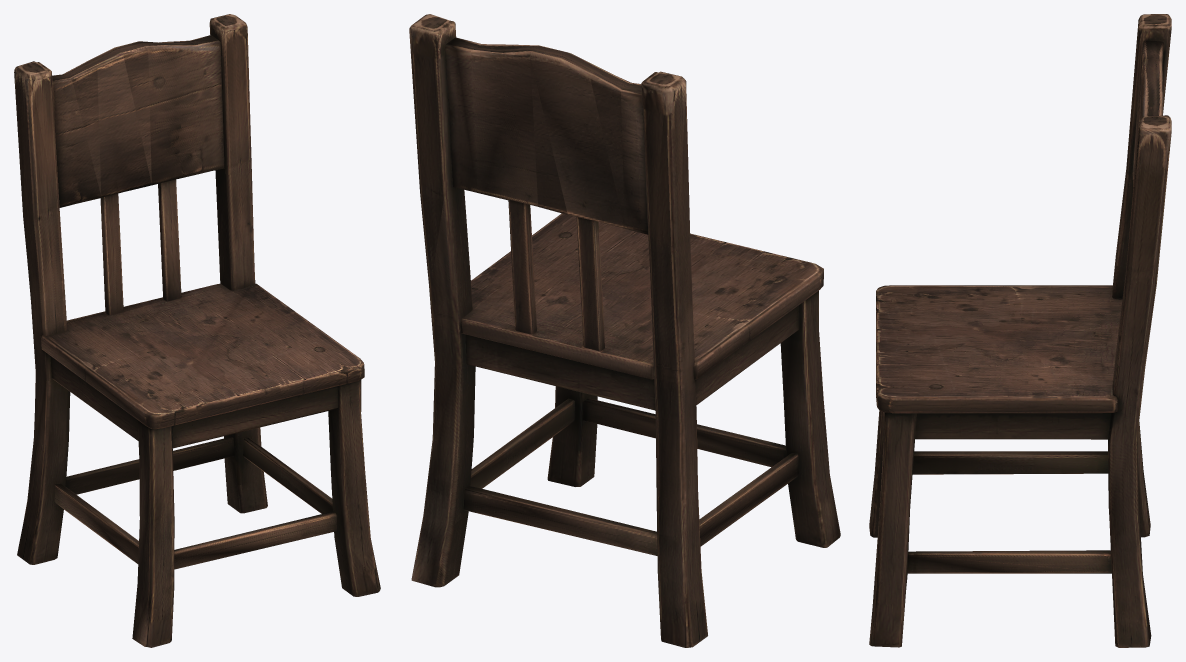
Rendered from wooden_chair.fbx.
The picture shows the model from 3 angles, left to right: view 1: azimuth 30°, elevation 25°; view 2: azimuth 150°, elevation 25°; view 3: azimuth 270°, elevation 25°; orthographic projection. The views are drawn at different scales.
Parts seen in each view (by area): view 1: mesh_node; view 2: mesh_node; view 3: mesh_node.
Boxes of the visible parts, <box> form: mesh_node: <box>14,14,380,647</box>; mesh_node: <box>409,14,840,647</box>; mesh_node: <box>869,14,1171,647</box>.
Size of the model in its own units: 52.15 by 100 by 53.32.
Materials: 1 (1 with a texture image).
